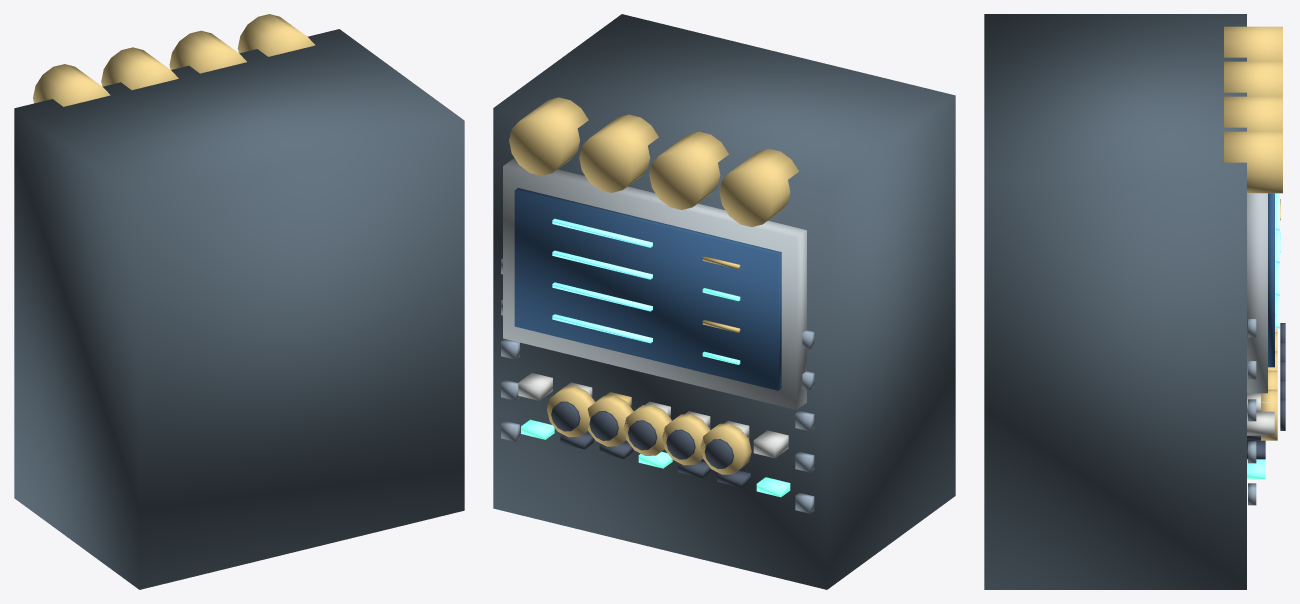
The model's file is L84_34_PrecisionGyroscopeIMU_Fitted.fbx.
3 views of the same model, side by side, from view 1: azimuth 30°, elevation 25°; view 2: azimuth 150°, elevation 25°; view 3: azimuth 270°, elevation 25° (orthographic). The views are drawn at different scales.
Visible parts, largest first — view 1: L84_PrecisionGyroscopeIMU_Static__tint1C2933, L84_PrecisionGyroscopeIMU_Static__tintF2B547; view 2: L84_PrecisionGyroscopeIMU_Static__tint1C2933, L84_PrecisionGyroscopeIMU_Static__tint0B214A, L84_PrecisionGyroscopeIMU_Static__tintF2B547, L84_PrecisionGyroscopeIMU_Static__tint91A3AD, L84_PrecisionGyroscopeIMU_Static__tint131B26, L84_PrecisionGyroscopeIMU_Static__tint38CCFC, L84_PrecisionGyroscopeIMU_Static__tint59738F, L84_PrecisionGyroscopeIMU_Static__tintCCD4CF, L84_PrecisionGyroscopeIMU_Static__tint2BF0A8; view 3: L84_PrecisionGyroscopeIMU_Static__tint1C2933, L84_PrecisionGyroscopeIMU_Static__tintF2B547, L84_PrecisionGyroscopeIMU_Static__tint91A3AD, L84_PrecisionGyroscopeIMU_Static__tint0B214A, L84_PrecisionGyroscopeIMU_Static__tint59738F, L84_PrecisionGyroscopeIMU_Static__tint131B26, L84_PrecisionGyroscopeIMU_Static__tintCCD4CF, L84_PrecisionGyroscopeIMU_Static__tint38CCFC.
Boxes of the visible parts, left/top/right/bottom form: L84_PrecisionGyroscopeIMU_Static__tint1C2933: left=14, top=29, right=464, bottom=589; L84_PrecisionGyroscopeIMU_Static__tintF2B547: left=33, top=14, right=315, bottom=106; L84_PrecisionGyroscopeIMU_Static__tint1C2933: left=493, top=14, right=955, bottom=589; L84_PrecisionGyroscopeIMU_Static__tint0B214A: left=514, top=188, right=781, bottom=390; L84_PrecisionGyroscopeIMU_Static__tintF2B547: left=509, top=97, right=798, bottom=474; L84_PrecisionGyroscopeIMU_Static__tint91A3AD: left=503, top=158, right=806, bottom=409; L84_PrecisionGyroscopeIMU_Static__tint131B26: left=551, top=401, right=750, bottom=487; L84_PrecisionGyroscopeIMU_Static__tint38CCFC: left=552, top=218, right=652, bottom=343; L84_PrecisionGyroscopeIMU_Static__tint59738F: left=501, top=258, right=814, bottom=513; L84_PrecisionGyroscopeIMU_Static__tintCCD4CF: left=518, top=373, right=788, bottom=458; L84_PrecisionGyroscopeIMU_Static__tint2BF0A8: left=521, top=288, right=790, bottom=497; L84_PrecisionGyroscopeIMU_Static__tint1C2933: left=984, top=14, right=1246, bottom=589; L84_PrecisionGyroscopeIMU_Static__tintF2B547: left=1224, top=26, right=1282, bottom=440; L84_PrecisionGyroscopeIMU_Static__tint91A3AD: left=1247, top=193, right=1267, bottom=393; L84_PrecisionGyroscopeIMU_Static__tint0B214A: left=1268, top=193, right=1274, bottom=367; L84_PrecisionGyroscopeIMU_Static__tint59738F: left=1248, top=319, right=1256, bottom=505; L84_PrecisionGyroscopeIMU_Static__tint131B26: left=1247, top=323, right=1285, bottom=459; L84_PrecisionGyroscopeIMU_Static__tintCCD4CF: left=1247, top=393, right=1274, bottom=435; L84_PrecisionGyroscopeIMU_Static__tint38CCFC: left=1275, top=193, right=1279, bottom=328.
Size of the model in its own units: 9.6 by 11.44 by 7.35.
